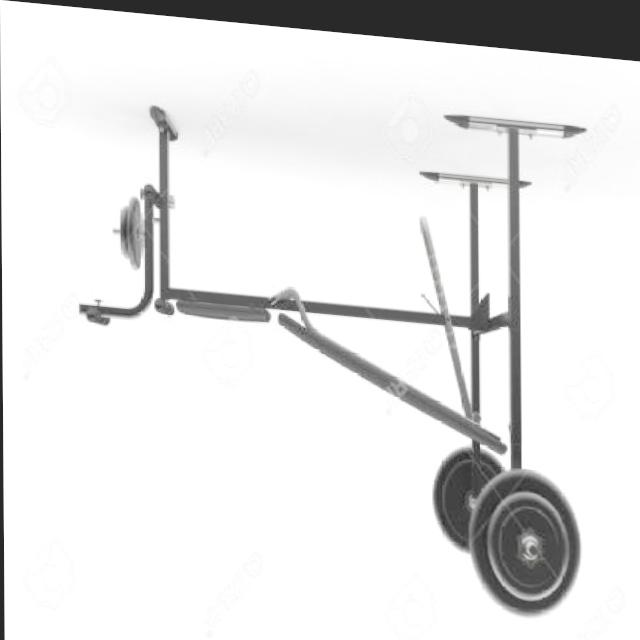barbell: (462, 456, 590, 621)
